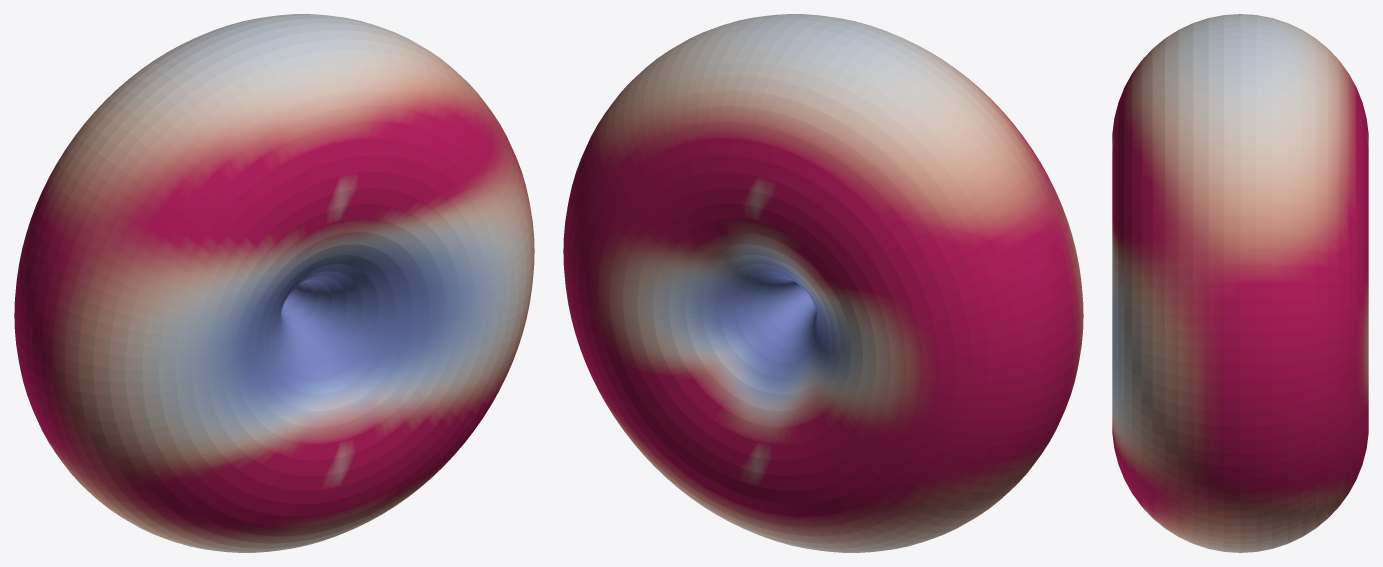
3 views of the same model, side by side, from view 1: azimuth 30°, elevation 25°; view 2: azimuth 150°, elevation 25°; view 3: azimuth 270°, elevation 25° (orthographic). The views are drawn at different scales.
Visible parts, largest first — view 1: world; view 2: world; view 3: world.
Boxes of the visible parts, bbox=[...] form: world: bbox=[14, 14, 534, 552]; world: bbox=[563, 14, 1083, 552]; world: bbox=[1112, 14, 1368, 552].
Bounding box in the file's own units: 19.11 × 19.11 × 9.09.
